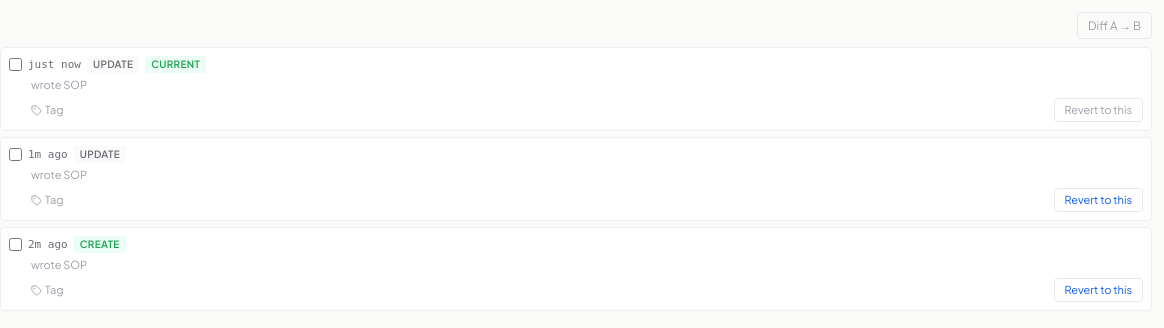
Scenario: VersionsTab (058-A) › F7: selecting two rows enables the Diff button; third pick rotates
Expected: the number of list items with test id "versions-row" is 3, [0,47,1152,131]; [0,137,1152,221]; [0,227,1152,311]
Expected: the button with test id "versions-diff-button" is disabled, [1077,12,1152,39]
What coordinates should you click on to do the following:
click the checkbox with test id "versions-row-select" next to "just now"
I would click on:
 (16, 65)
Its box is [9,58,22,71].
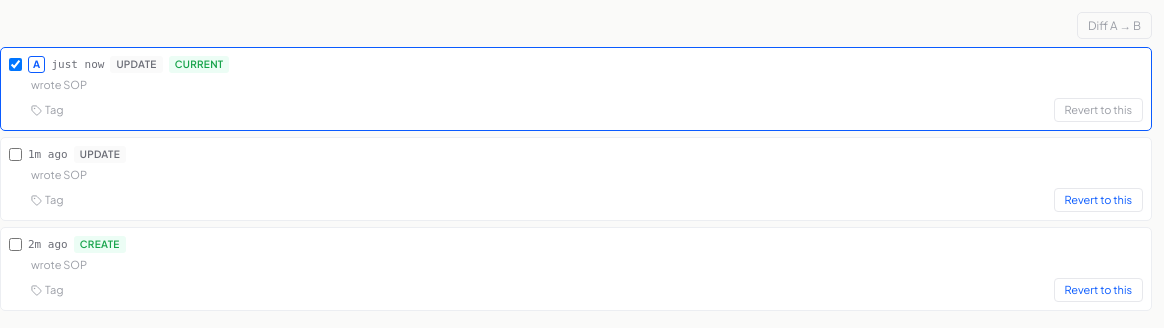
Expected: the button with test id "versions-diff-button" is disabled, [1077,12,1152,39]
What coordinates should you click on to do the following:
click the checkbox with test id "versions-row-select" next to "1m ago"
I would click on:
 (16, 155)
Its box is [9,148,22,161].
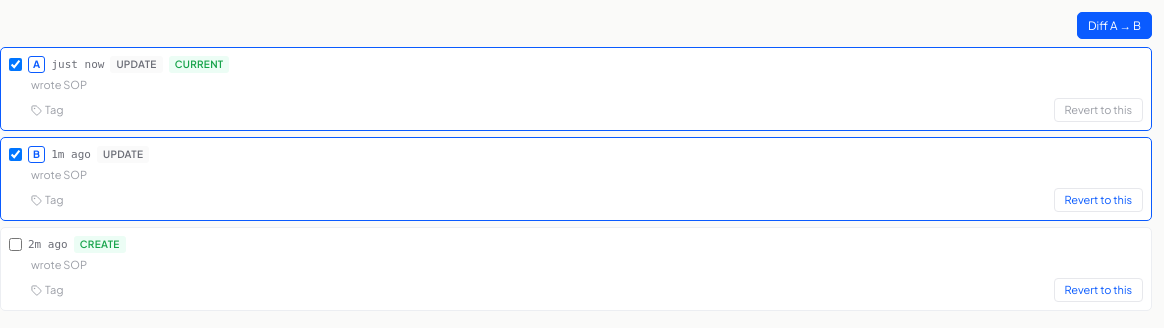
Now the button with test id "versions-diff-button" is enabled, box [1077,12,1152,39]
